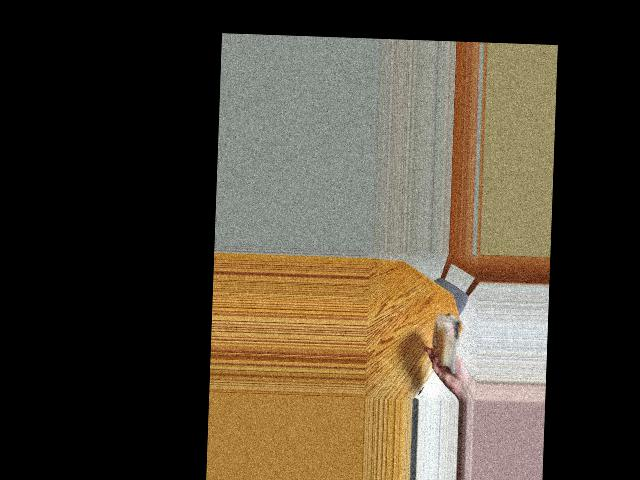cheese: (425, 314, 465, 368)
